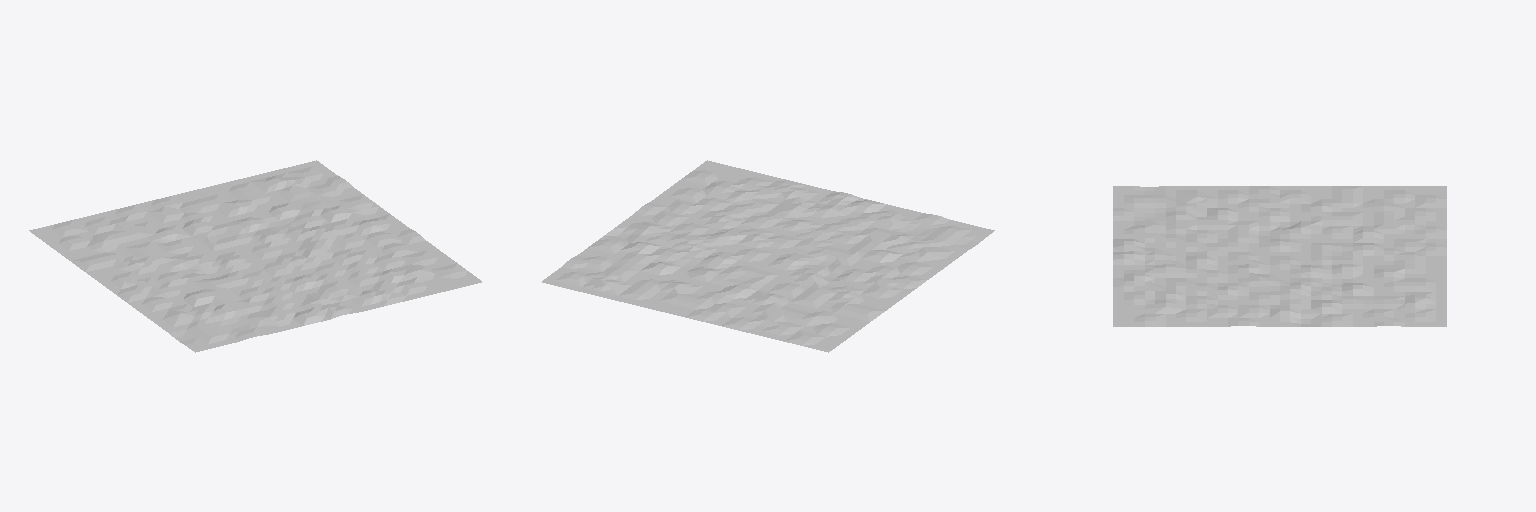
File: CustomEnvironmentPlane.obj
3 views of the same model, side by side, from view 1: azimuth 30°, elevation 25°; view 2: azimuth 150°, elevation 25°; view 3: azimuth 270°, elevation 25° (orthographic).
Visible parts, largest first — view 1: CustomEnvironmentPlane; view 2: CustomEnvironmentPlane; view 3: CustomEnvironmentPlane.
Part boxes in pixels (x1,y1,x2,y2): CustomEnvironmentPlane: (29,160,481,352); CustomEnvironmentPlane: (542,160,994,352); CustomEnvironmentPlane: (1113,186,1446,326).
Size of the model in its own units: 133 by 1.56 by 133.